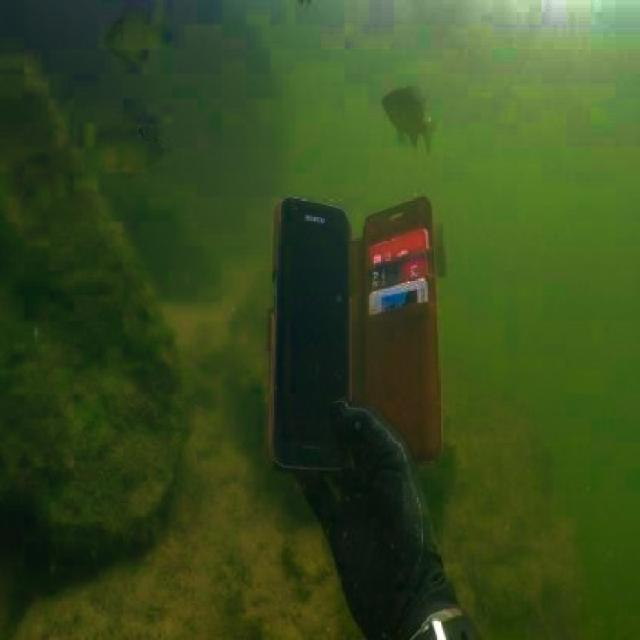cellphone: (270, 195, 352, 473)
